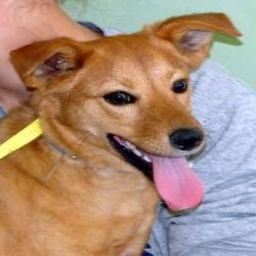dog: (2, 14, 230, 256)
